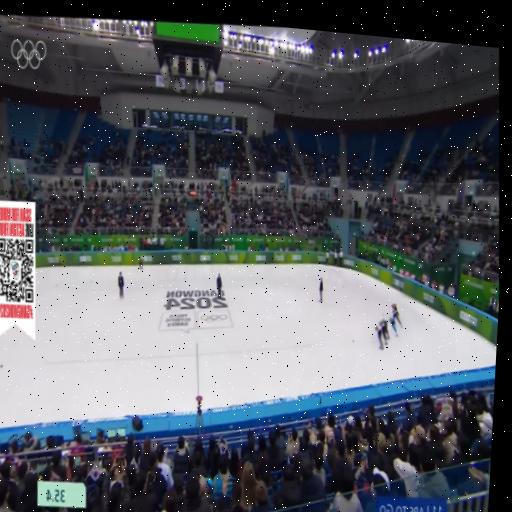Skater: (369, 321, 388, 353), (377, 317, 392, 343), (389, 307, 405, 330), (388, 315, 401, 337), (390, 301, 399, 317), (137, 256, 146, 272)
